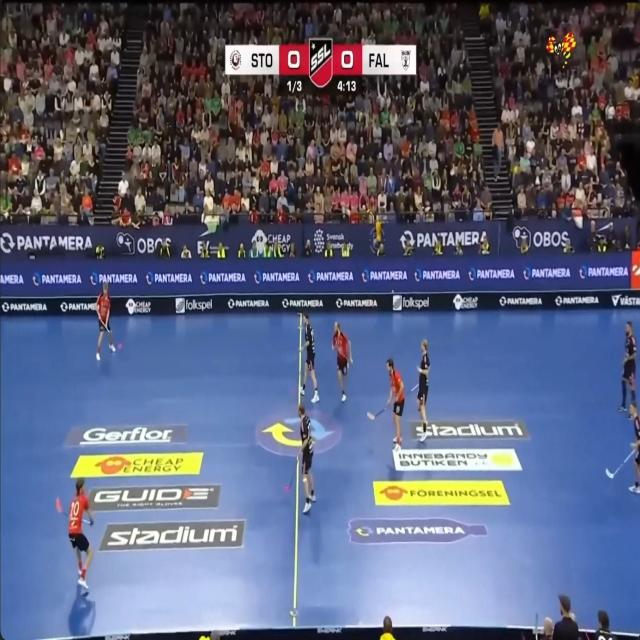player: (68, 478, 93, 589), (298, 404, 315, 512), (300, 312, 319, 403), (387, 358, 404, 450), (332, 323, 352, 401), (619, 321, 636, 411), (96, 282, 115, 360), (417, 339, 429, 442), (629, 401, 640, 494), (629, 414, 631, 417)
stick: (605, 450, 636, 478), (284, 461, 296, 490), (55, 496, 67, 517), (367, 407, 386, 420), (98, 315, 110, 333), (534, 612, 537, 639), (82, 517, 91, 523), (411, 385, 418, 391)
